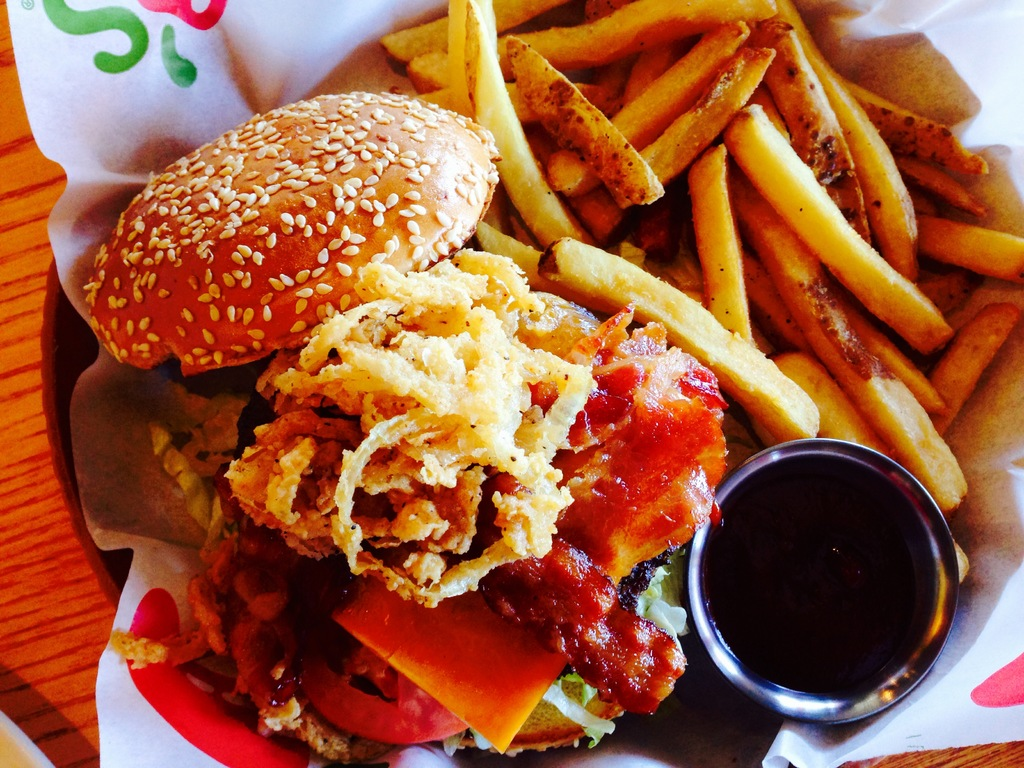French fries: (379, 0, 1023, 593)
